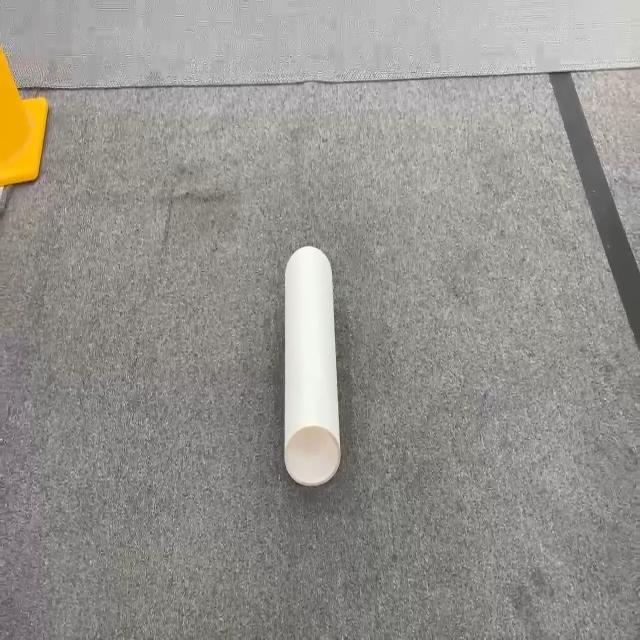coral: (283, 244, 341, 486)
